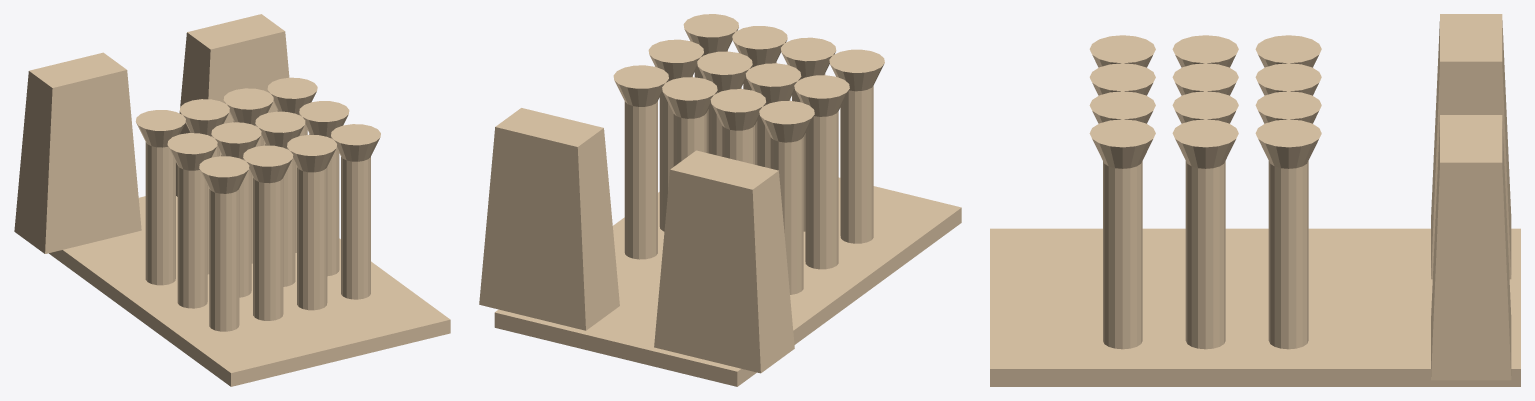
File: egyptian_s3.glb
The picture shows the model from 3 angles, left to right: view 1: azimuth 30°, elevation 25°; view 2: azimuth 150°, elevation 25°; view 3: azimuth 270°, elevation 25°; orthographic projection. The views are drawn at different scales.
Visible parts, largest first — view 1: egyptian; view 2: egyptian; view 3: egyptian.
Part boxes in pixels (box(x1,y1,x2,y2)): egyptian: box(14, 14, 450, 386); egyptian: box(479, 14, 961, 386); egyptian: box(990, 14, 1520, 386).
Bounding box in the file's own units: 15.26 × 10 × 21.05.
